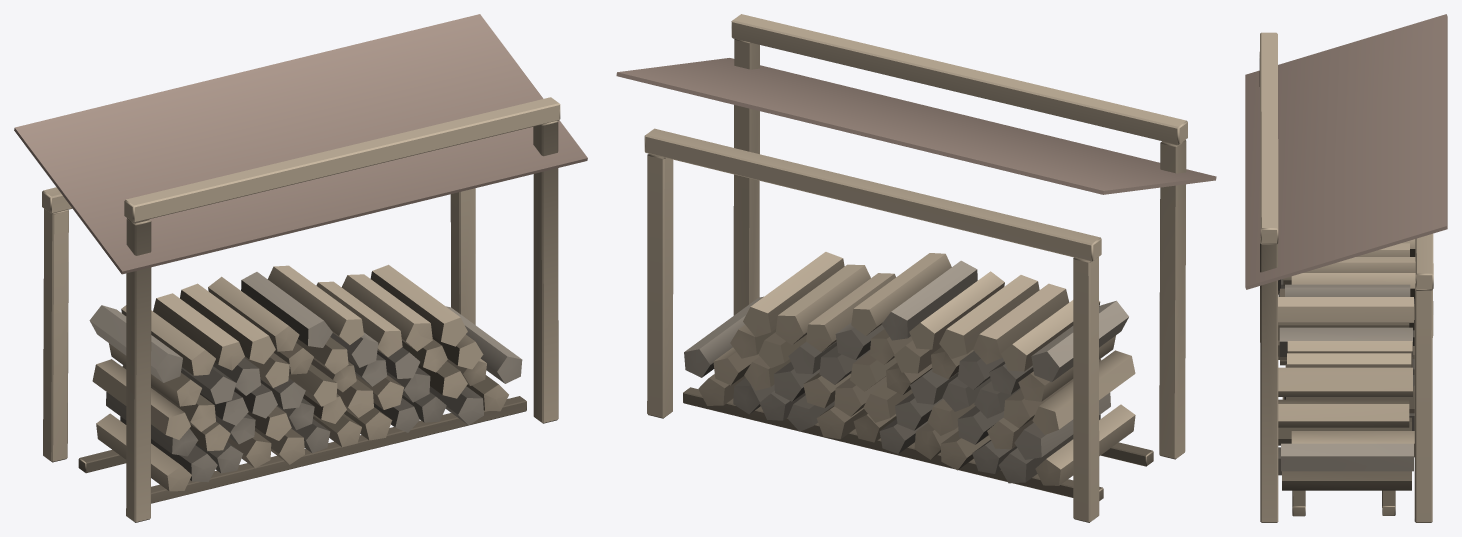
Rendered from woodpile_lean.glb.
3 renders of one model, left to right at view 1: azimuth 30°, elevation 25°; view 2: azimuth 150°, elevation 25°; view 3: azimuth 270°, elevation 25°, orthographic. The views are drawn at different scales.
Parts seen in each view (by area): view 1: static; view 2: static; view 3: static.
Part boxes in pixels (x1,y1,x2,y2): static: (14, 14, 587, 522); static: (616, 14, 1216, 522); static: (1245, 14, 1447, 522).
Size of the model in its own units: 2.24 by 1.51 by 0.9038.
